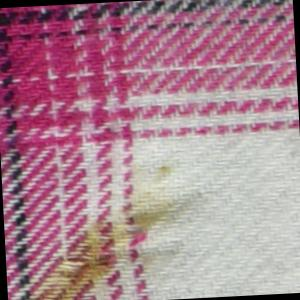Damage: (48, 231, 128, 293)
Oil Stain: (13, 158, 210, 300)
